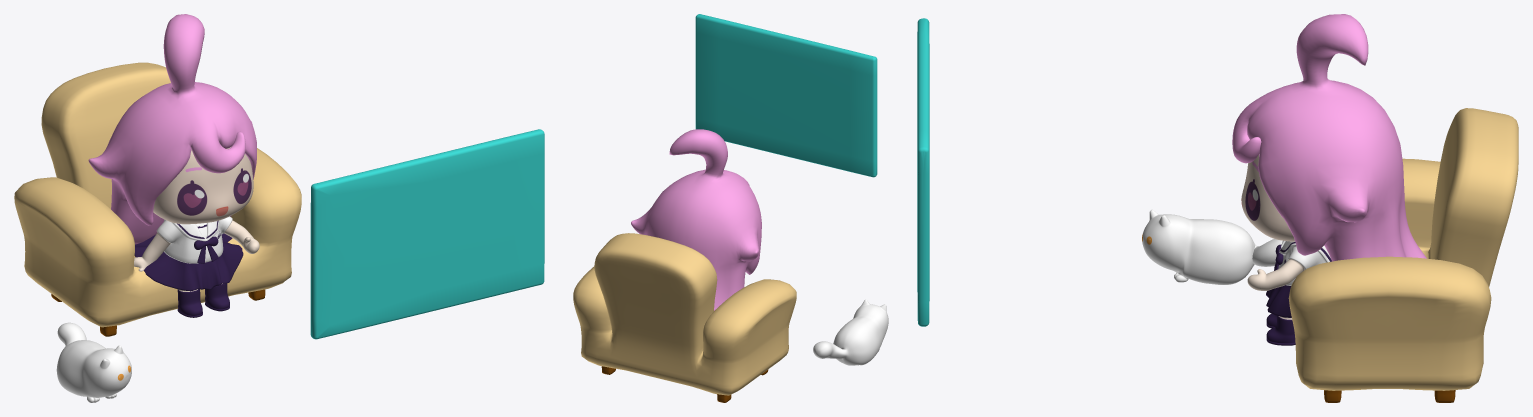
File: MAO_JT_28792.FBX
3 views of the same model, side by side, from view 1: azimuth 30°, elevation 25°; view 2: azimuth 150°, elevation 25°; view 3: azimuth 270°, elevation 25° (orthographic). The views are drawn at different scales.
Visible parts, largest first — view 1: Box020, Box021, 444444, Box004, 789; view 2: Box021, Box020, 444444, 789; view 3: Box021, 444444, 789, Box020, Box004.
Boxes of the visible parts, bbox=[...] form: Box020: bbox=[310, 129, 544, 339]; Box021: bbox=[14, 62, 301, 336]; 444444: bbox=[88, 14, 256, 244]; Box004: bbox=[134, 216, 259, 317]; 789: bbox=[56, 322, 131, 402]; Box021: bbox=[573, 233, 796, 402]; Box020: bbox=[695, 14, 877, 177]; 444444: bbox=[631, 129, 761, 310]; 789: bbox=[813, 299, 888, 365]; Box021: bbox=[1288, 108, 1518, 402]; 444444: bbox=[1232, 14, 1426, 261]; 789: bbox=[1142, 209, 1282, 284]; Box020: bbox=[917, 18, 929, 326]; Box004: bbox=[1247, 240, 1331, 345].
Bounding box in the file's own units: 40 × 32.17 × 50.37.
5 materials, 4 textured.
